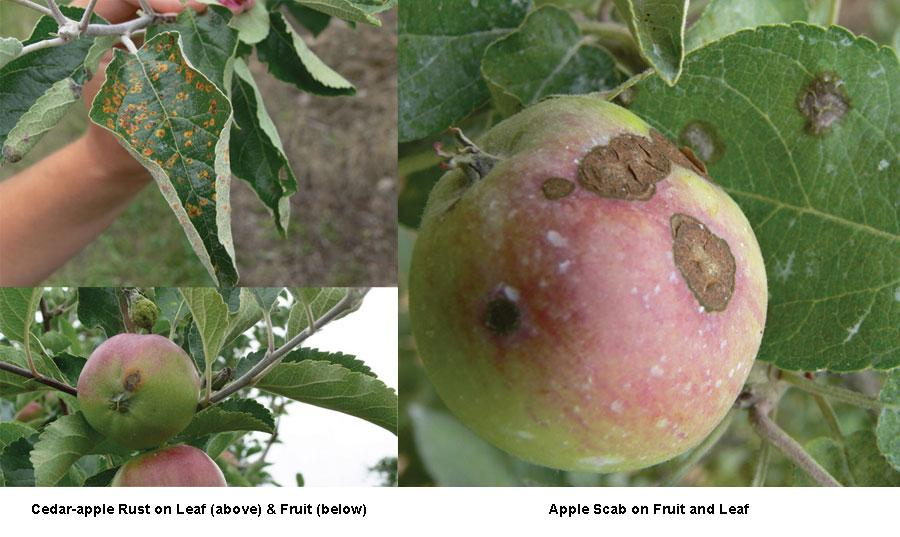Apple rust leaf: (87, 44, 266, 286)
